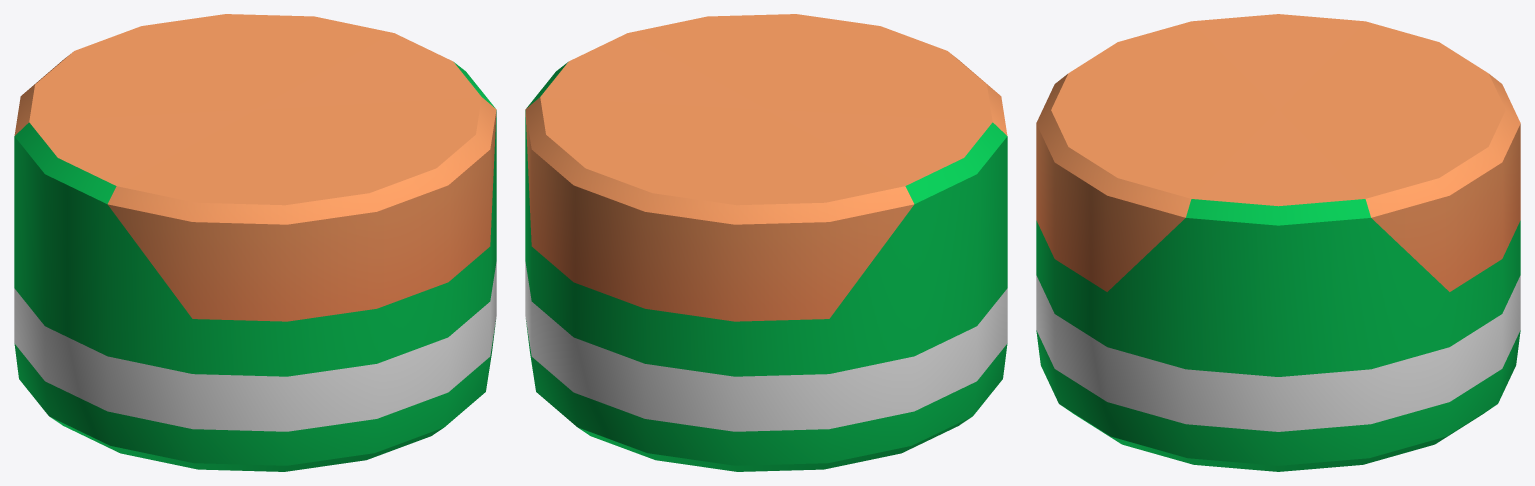
File: Body_Dress_05.fbx
3 views of the same model, side by side, from view 1: azimuth 30°, elevation 25°; view 2: azimuth 150°, elevation 25°; view 3: azimuth 270°, elevation 25° (orthographic).
Parts seen in each view (by area): view 1: Body_Dress_05; view 2: Body_Dress_05; view 3: Body_Dress_05.
Part boxes in pixels (left/top/right/bottom): Body_Dress_05: left=14, top=14, right=496, bottom=471; Body_Dress_05: left=525, top=14, right=1007, bottom=471; Body_Dress_05: left=1036, top=14, right=1520, bottom=471.
Size of the model in its own units: 100 by 61.13 by 100.
